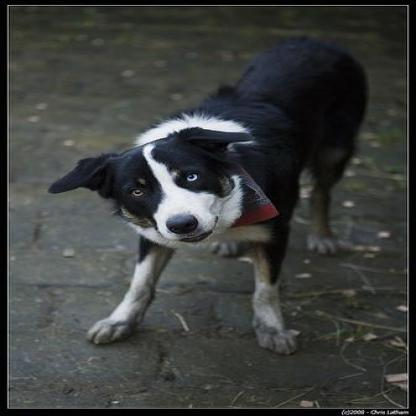Border_collie: (43, 29, 405, 355)
